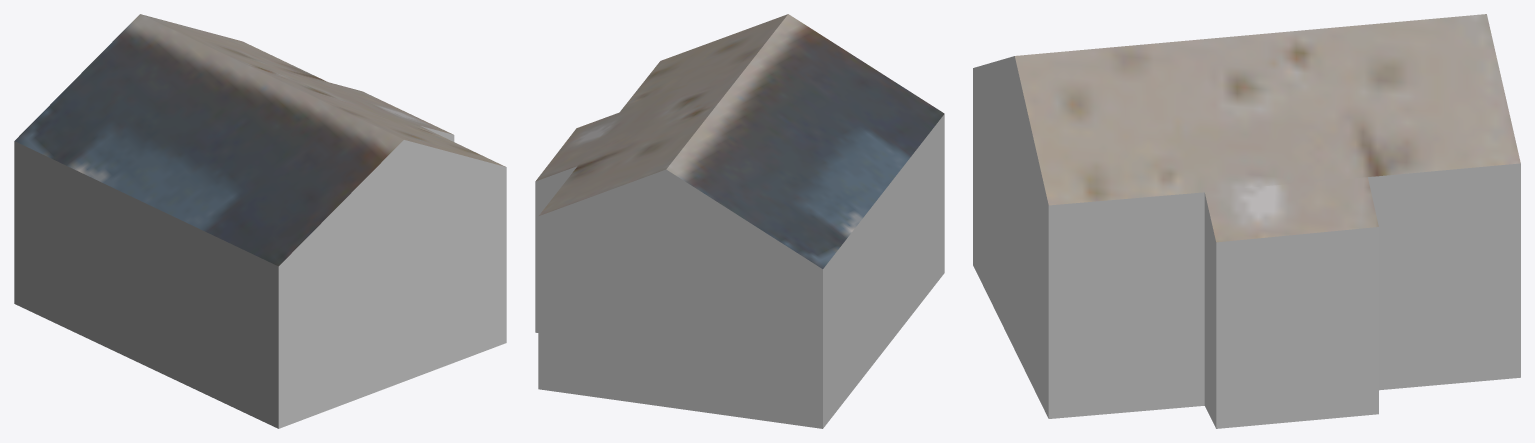
The model's file is DEBW_0010007Txfm.gltf.
The picture shows the model from 3 angles, left to right: view 1: azimuth 30°, elevation 25°; view 2: azimuth 150°, elevation 25°; view 3: azimuth 270°, elevation 25°; orthographic projection. The views are drawn at different scales.
Visible parts, largest first — view 1: Z_UP; view 2: Z_UP; view 3: Z_UP.
Part boxes in pixels (box(x1,y1,x2,y2)): Z_UP: box(14, 14, 506, 428); Z_UP: box(535, 14, 944, 428); Z_UP: box(973, 14, 1520, 428).
Size of the model in its own units: 13.09 by 8.77 by 14.78.
Materials: 2 (1 with a texture image).
